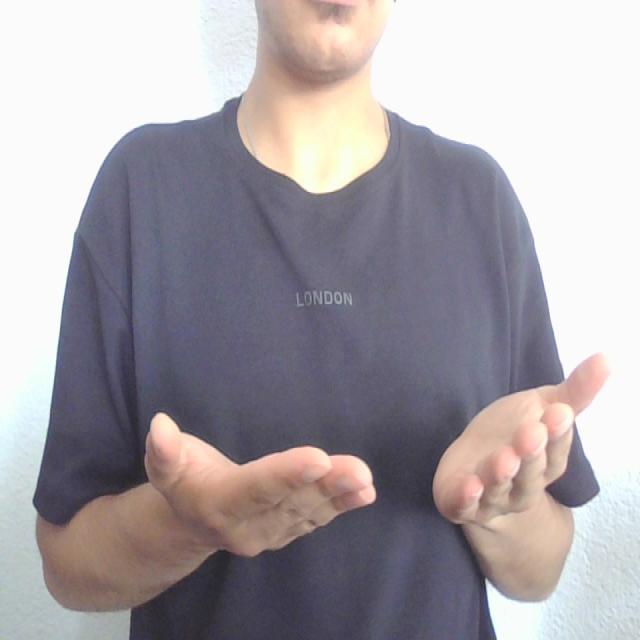Evet: (140, 344, 618, 562)
